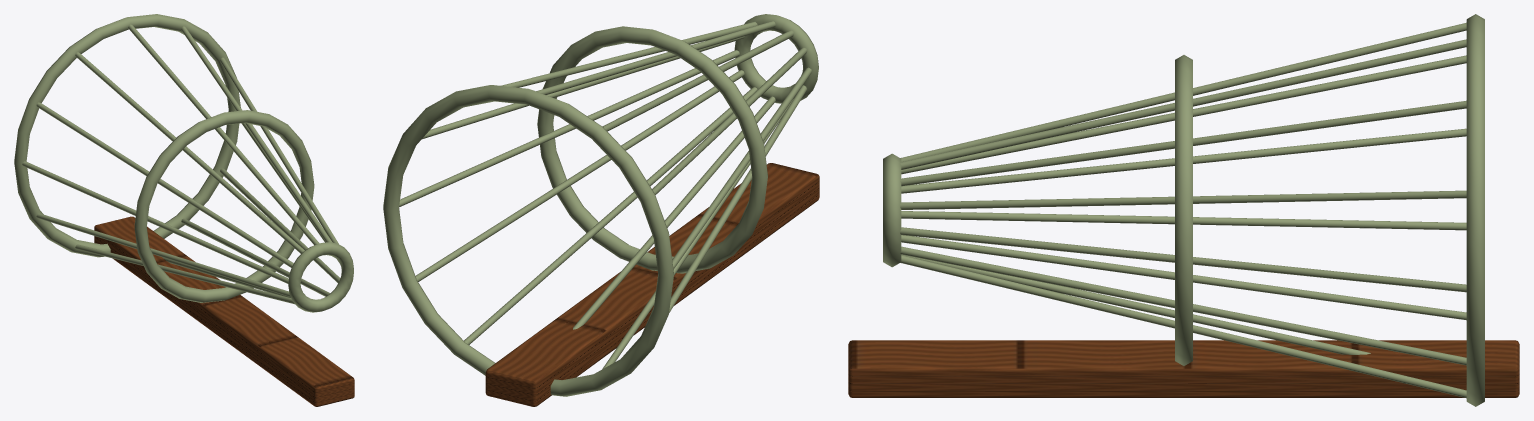
The model's file is flooded-and-coastal-survival-fyke-funnel-trap-9a9e42cb__20078.glb.
The picture shows the model from 3 angles, left to right: view 1: azimuth 30°, elevation 25°; view 2: azimuth 150°, elevation 25°; view 3: azimuth 270°, elevation 25°; orthographic projection. The views are drawn at different scales.
Parts seen in each view (by area): view 1: fyke-funnel-trap; view 2: fyke-funnel-trap; view 3: fyke-funnel-trap.
Boxes of the visible parts, x1=… form: fyke-funnel-trap: x1=14, y1=14, x2=354, y2=406; fyke-funnel-trap: x1=383, y1=14, x2=819, y2=406; fyke-funnel-trap: x1=848, y1=14, x2=1519, y2=406.
Size of the model in its own units: 0.676 by 0.676 by 1.15.
Materials: 2 (1 with a texture image).
